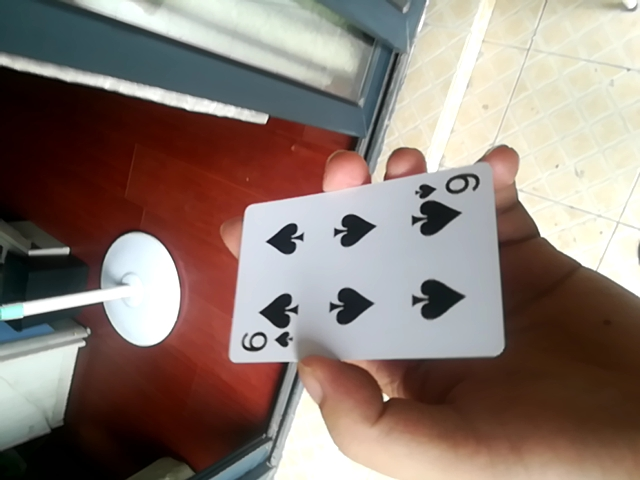ht 6: (225, 156, 510, 362)
